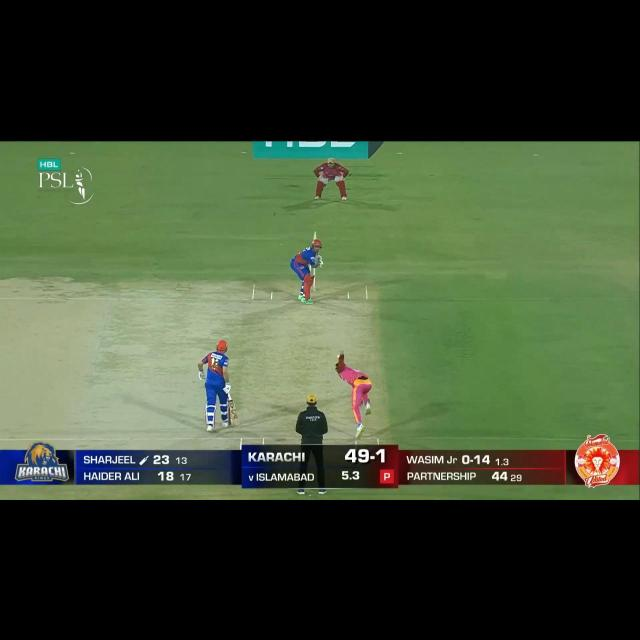bat: (224, 398, 242, 428)
toe: (231, 417, 242, 428), (313, 230, 318, 240)
